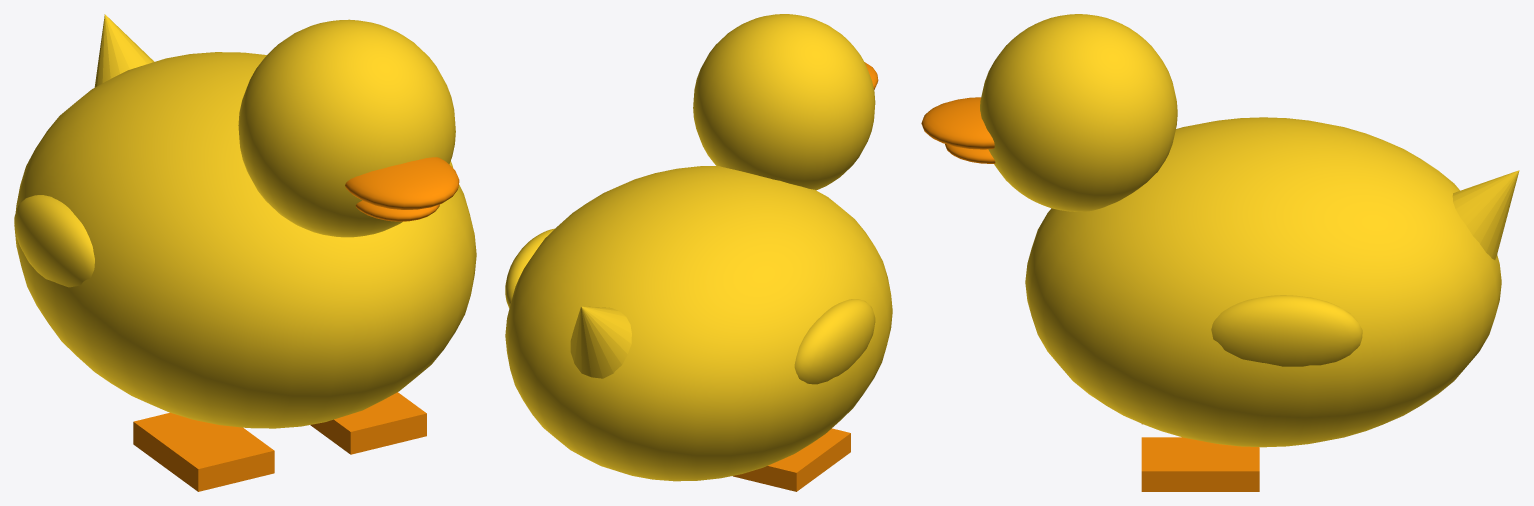
The model's file is duck.glb.
3 renders of one model, left to right at view 1: azimuth 30°, elevation 25°; view 2: azimuth 150°, elevation 25°; view 3: azimuth 270°, elevation 25°, orthographic. The views are drawn at different scales.
Visible parts, largest first — view 1: body, head, footR, wingR, beakTop, footL, tail, beakBottom; view 2: body, head, wingR, tail, footR, wingL; view 3: body, head, wingL, footL, tail, beakTop.
Boxes of the visible parts, left/top/right/bottom form: body: left=14, top=52, right=476, bottom=428; head: left=238, top=19, right=455, bottom=237; footR: left=133, top=412, right=274, bottom=491; wingR: left=14, top=195, right=94, bottom=287; beakTop: left=345, top=157, right=459, bottom=209; footL: left=310, top=392, right=426, bottom=454; tail: left=94, top=14, right=154, bottom=87; beakBottom: left=355, top=200, right=439, bottom=221; body: left=505, top=166, right=892, bottom=481; head: left=693, top=14, right=875, bottom=190; wingR: left=794, top=299, right=875, bottom=384; tail: left=570, top=306, right=631, bottom=378; footR: left=733, top=428, right=850, bottom=491; wingL: left=505, top=228, right=554, bottom=307; body: left=1025, top=117, right=1501, bottom=447; head: left=980, top=14, right=1177, bottom=211; wingL: left=1211, top=295, right=1362, bottom=366; footL: left=1141, top=437, right=1259, bottom=491; tail: left=1452, top=170, right=1519, bottom=259; beakTop: left=921, top=97, right=994, bottom=149.
Bounding box in the file's own units: 2.18 × 2.42 × 3.14.
